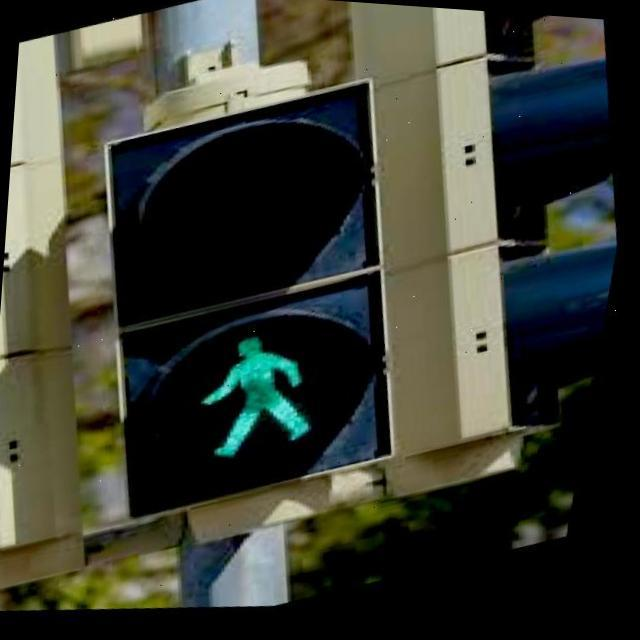greenlight: (100, 65, 395, 514)
